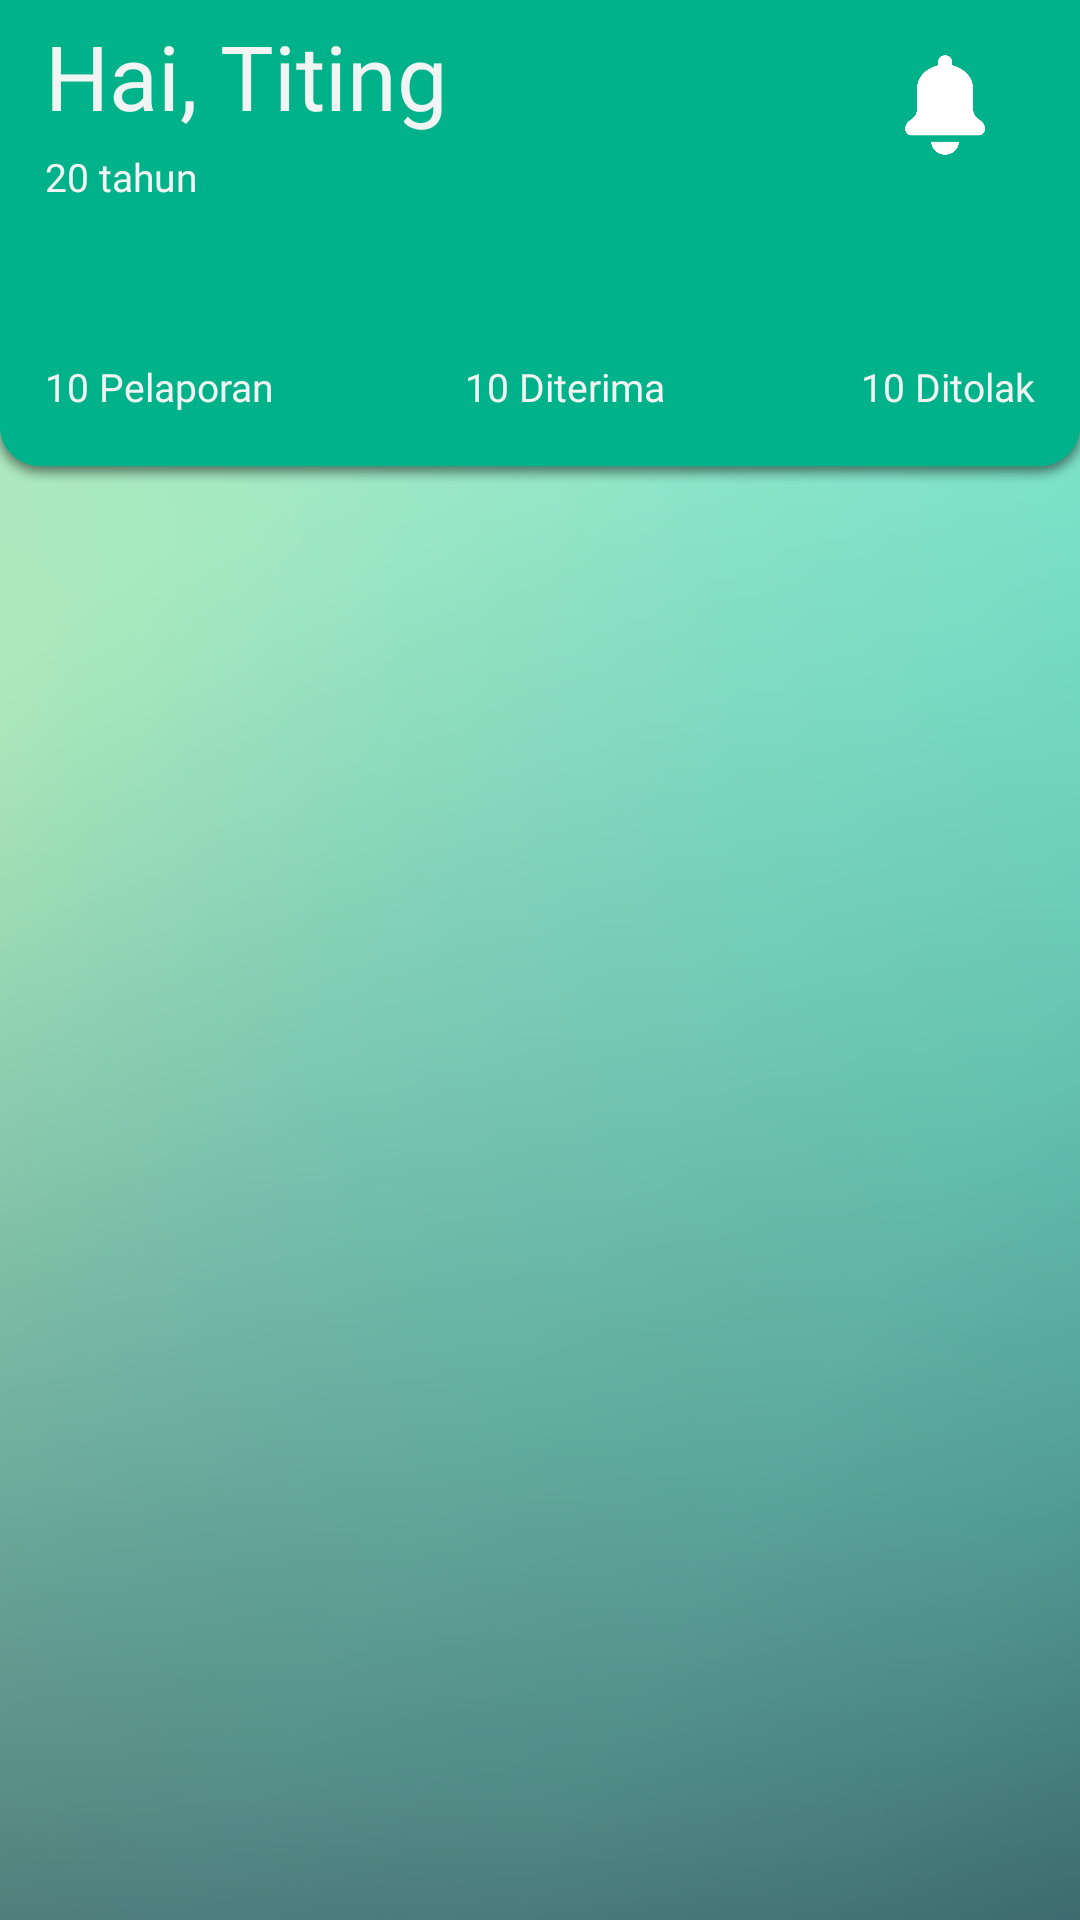

Locate icon controls on the screen. Image size 1080×1920, boxes as (x1, y1, x2, y2).
notification: (905, 55, 985, 155)
